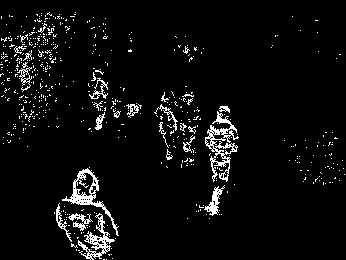person: (54, 169, 122, 260), (205, 103, 239, 216), (154, 89, 177, 161), (178, 91, 197, 163), (88, 68, 109, 131)
